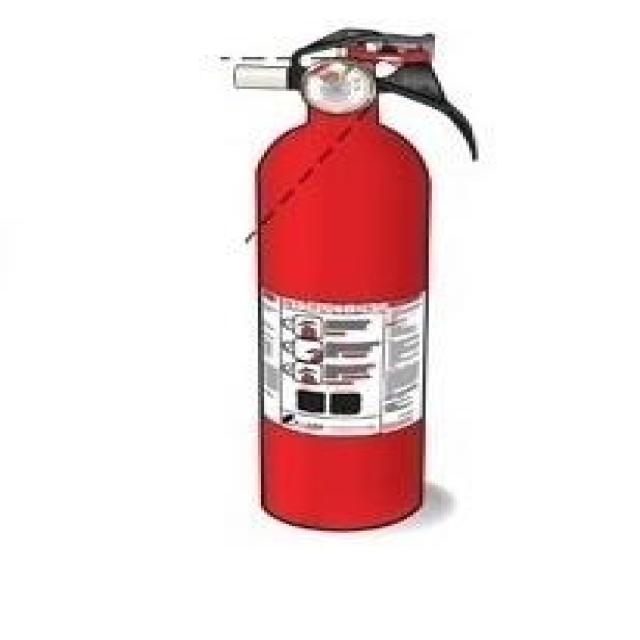fire_extinguisher: (225, 21, 480, 532)
